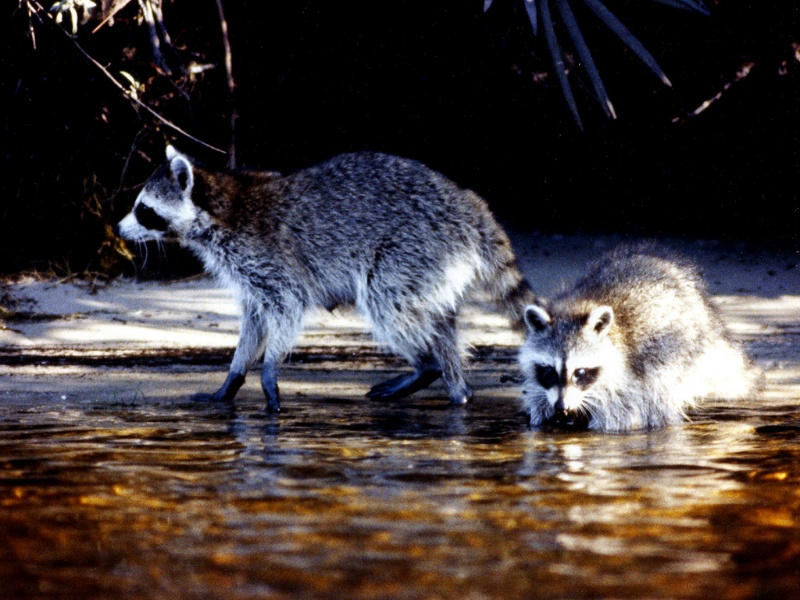raccoon: (115, 142, 579, 415), (517, 239, 769, 437)
